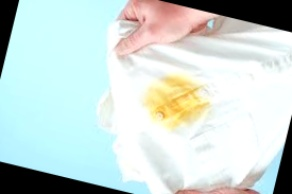mustard: (147, 78, 206, 129)
